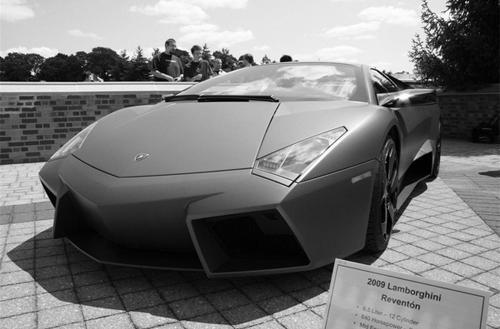car: (40, 63, 444, 280)
